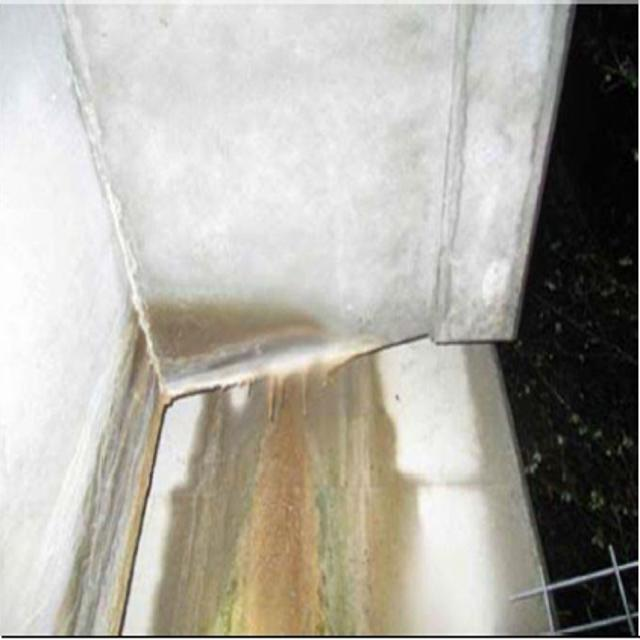leakage: (58, 270, 403, 640)
